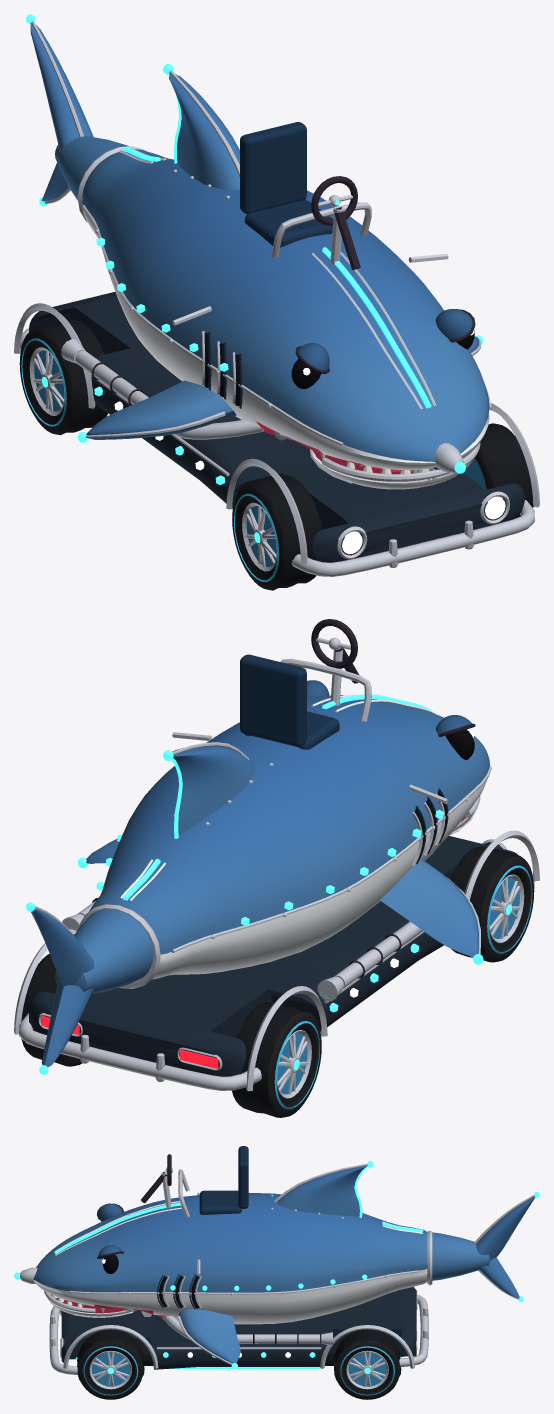
File: dune_chomper.glb
The picture shows the model from 3 angles, top to bottom: view 1: azimuth 30°, elevation 25°; view 2: azimuth 150°, elevation 25°; view 3: azimuth 270°, elevation 25°; orthographic projection. The views are drawn at different scales.
Parts seen in each view (by area): view 1: hull, chassis, wheel_FR_tyre, seat_back, wheel_RR_tyre, pecR, dorsal, bumper_1, wheel_FL_tyre, tail_upper, pipe_0, seat_cushion (+11 smaller); view 2: hull, chassis, seat_back, wheel_RR_tyre, pecR, tail_stock, dorsal, wheel_FR_tyre, bumper_0, tail_upper, tail_lower, wheel_RL_tyre (+12 smaller); view 3: hull, chassis, dorsal, wheel_FL_tyre, wheel_RL_tyre, pecL, tail_stock, tail_upper, pipe_1, seat_cushion, bead_1, tail_lower (+14 smaller).
Part boxes in pixels (<box>): hull: <box>82,149,489,469</box>; chassis: <box>29,292,524,562</box>; wheel_FR_tyre: <box>232,474,322,590</box>; seat_back: <box>240,122,306,214</box>; wheel_RR_tyre: <box>19,319,107,435</box>; pecR: <box>86,380,236,439</box>; dorsal: <box>169,73,239,189</box>; bumper_1: <box>291,500,534,576</box>; wheel_FL_tyre: <box>474,423,533,519</box>; tail_upper: <box>30,23,93,148</box>; pipe_0: <box>75,350,263,439</box>; seat_cushion: <box>244,200,332,247</box>; hull: <box>89,695,489,979</box>; chassis: <box>29,836,519,1076</box>; seat_back: <box>240,654,306,746</box>; wheel_RR_tyre: <box>232,1002,321,1117</box>; pecR: <box>380,860,478,957</box>; tail_stock: <box>55,909,153,993</box>; dorsal: <box>172,746,255,834</box>; wheel_FR_tyre: <box>450,846,534,962</box>; bumper_0: <box>19,1013,261,1090</box>; tail_upper: <box>31,909,94,986</box>; tail_lower: <box>41,981,93,1067</box>; wheel_RL_tyre: <box>21,954,82,1066</box>; hull: <box>33,1193,427,1324</box>; chassis: <box>61,1287,416,1369</box>; dorsal: <box>277,1165,367,1216</box>; wheel_FL_tyre: <box>77,1329,144,1399</box>; wheel_RL_tyre: <box>334,1329,401,1399</box>; pecL: <box>178,1309,240,1364</box>; tail_stock: <box>432,1232,491,1280</box>; tail_upper: <box>476,1196,535,1259</box>; pipe_1: <box>162,1316,319,1343</box>; seat_cushion: <box>199,1190,241,1214</box>; bead_1: <box>70,1270,418,1294</box>; tail_lower: <box>479,1257,519,1298</box>.
Bounding box in the file's own units: 3.85 × 3.16 × 7.17.
